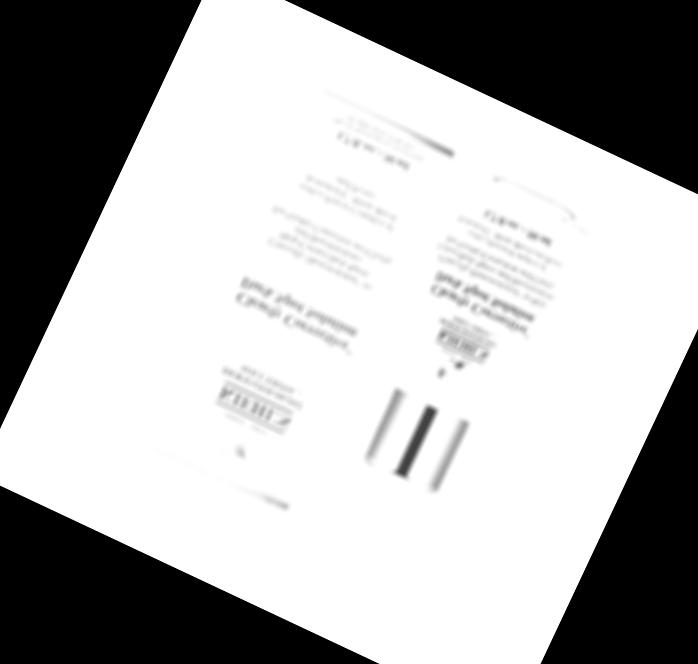cosmetic: (317, 177, 587, 567)
